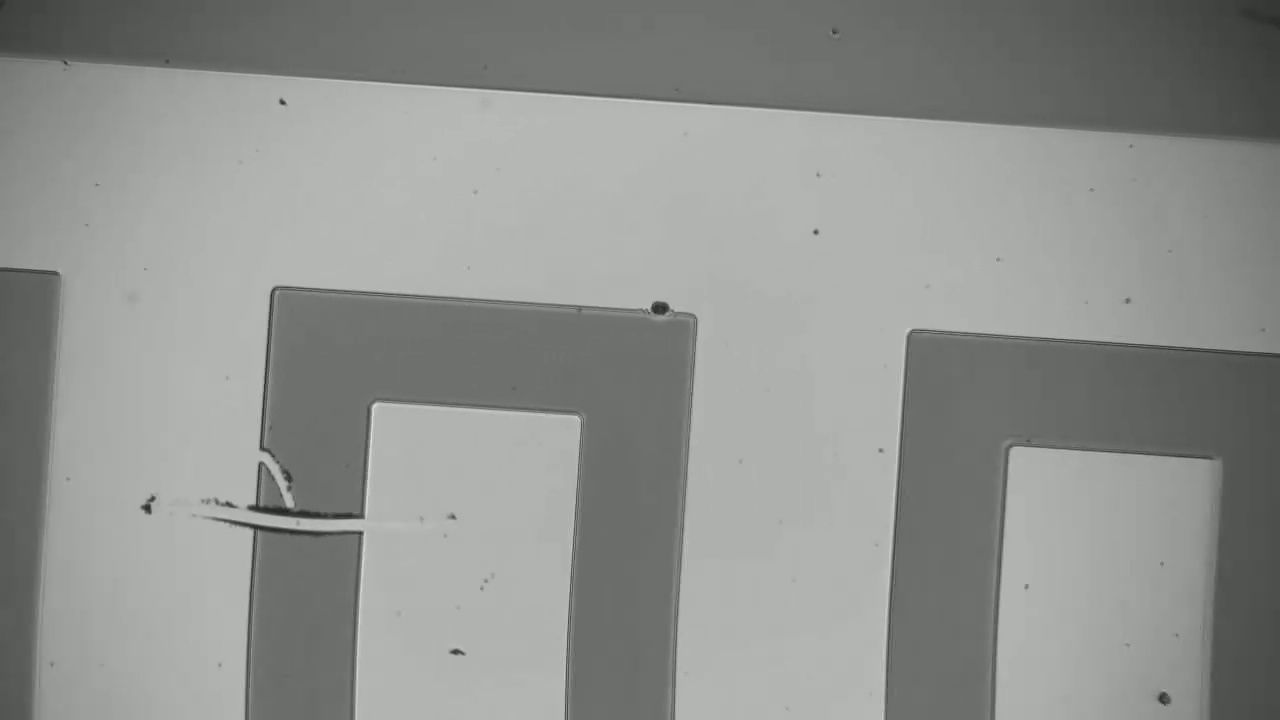Short_circuit: (227, 492, 394, 557)
